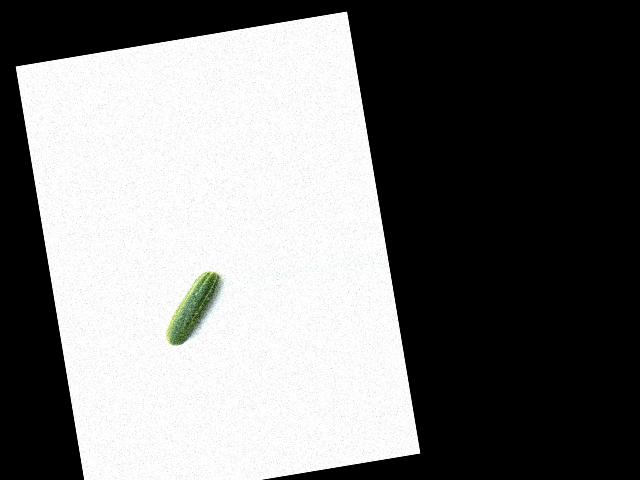cucumber: (156, 269, 229, 346)
